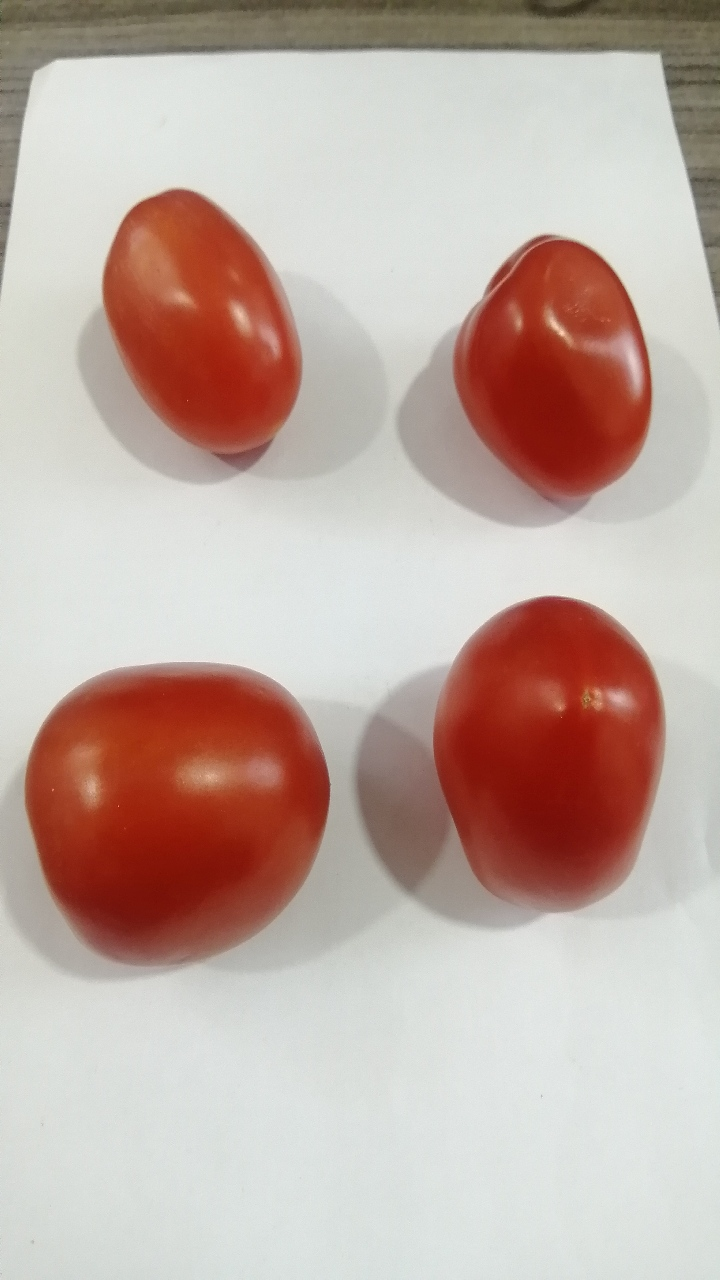tomateRojo: (1, 628, 361, 988), (397, 572, 686, 942), (414, 195, 686, 512), (71, 155, 331, 485)
